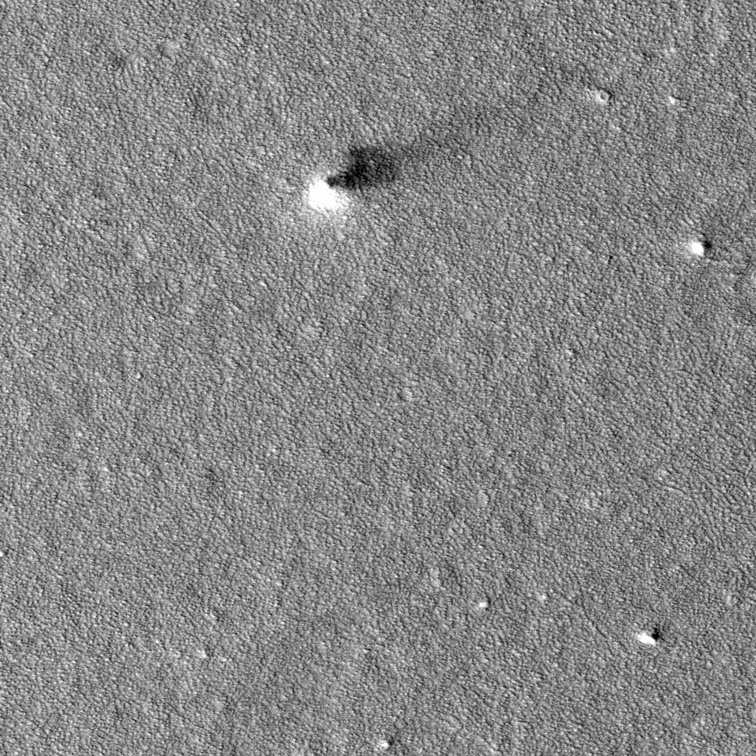dust_devil: (304, 139, 410, 220)
